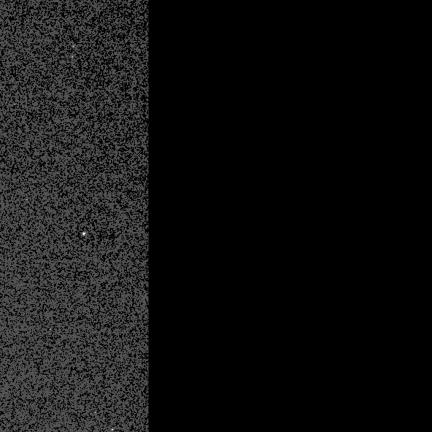blob: (83, 233, 86, 236)
